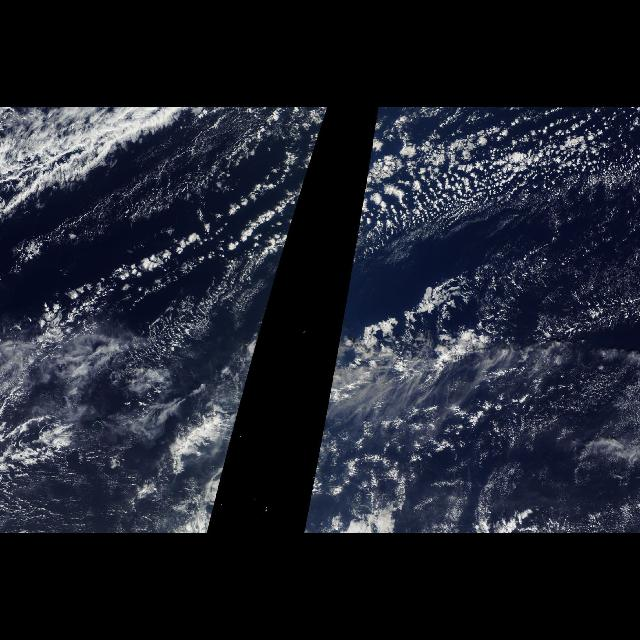Gravel: (372, 123, 636, 527)
